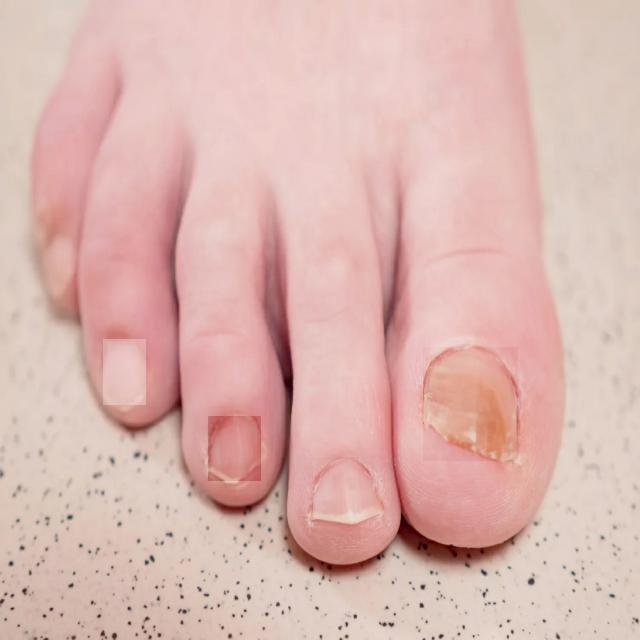diabetes: (424, 348, 518, 461)
sehat: (314, 459, 381, 517), (209, 417, 261, 481), (103, 339, 146, 405)
